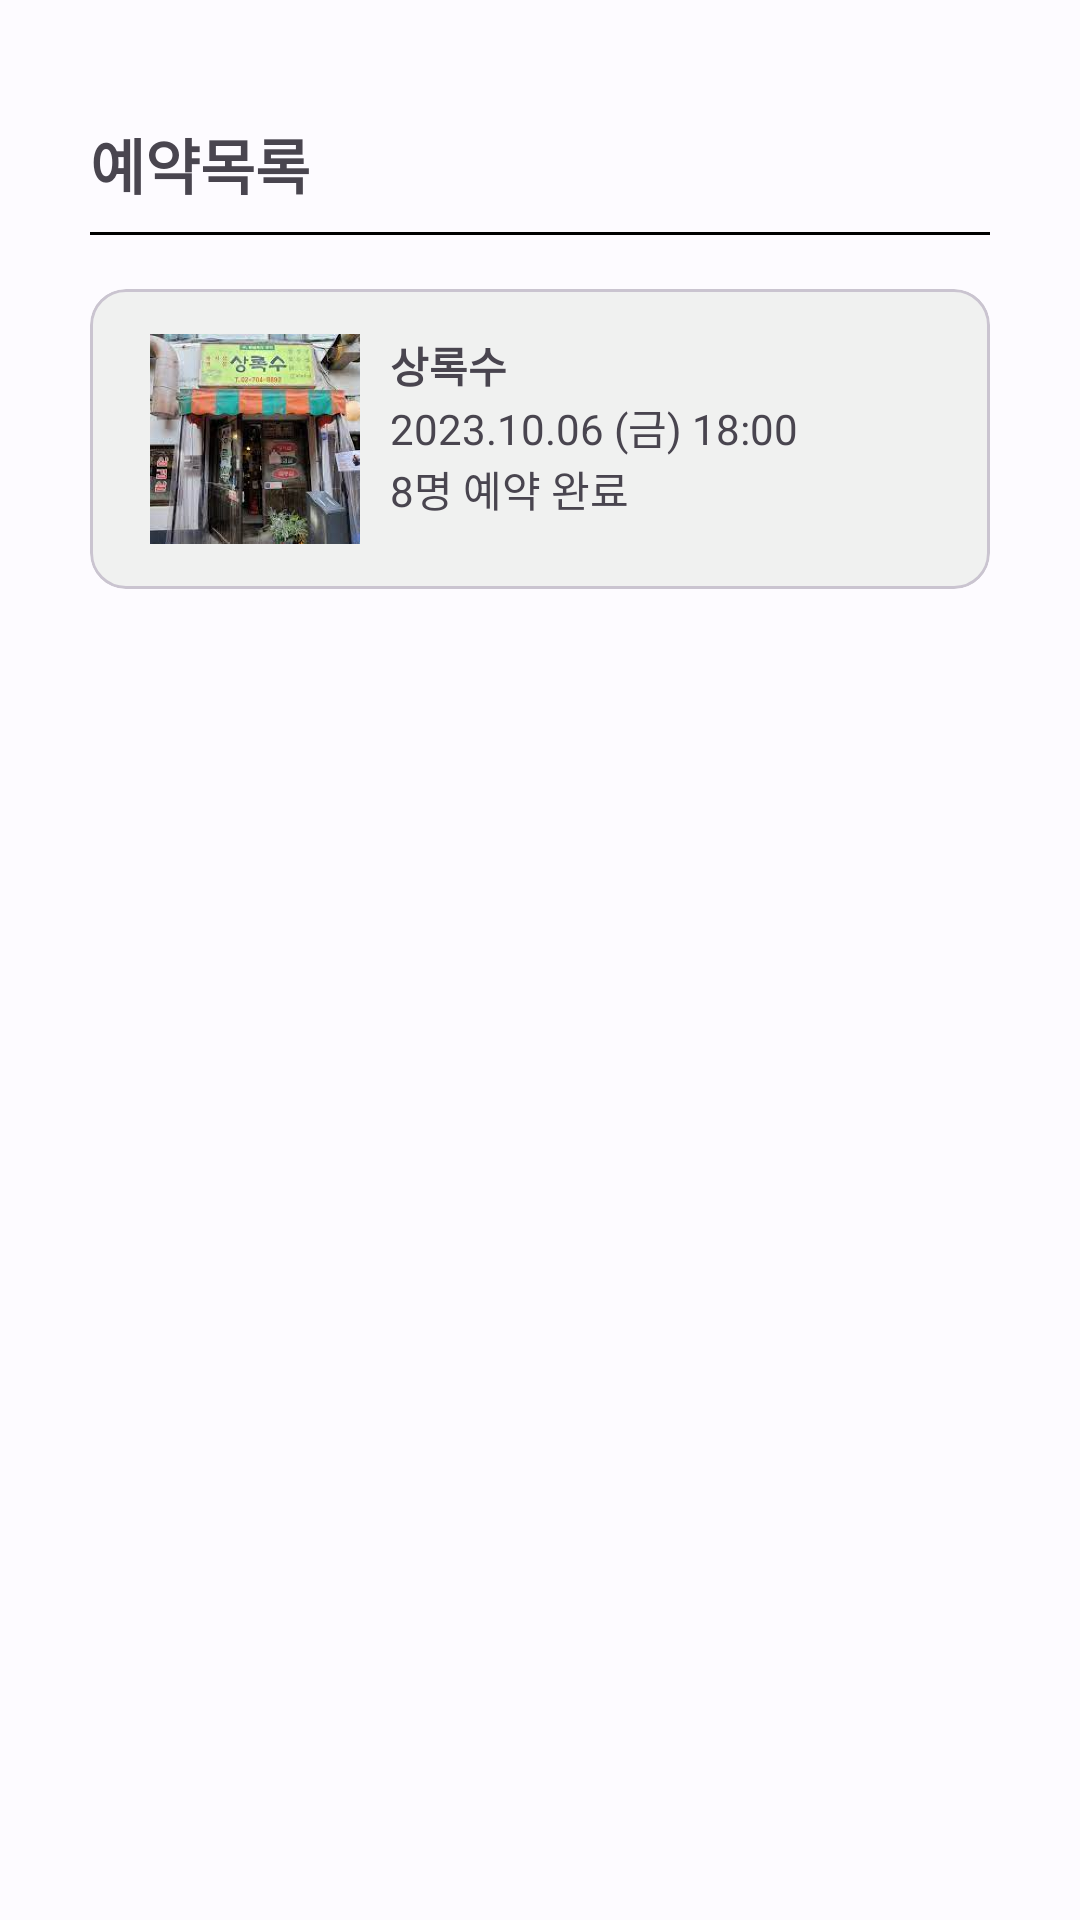

Screen size 1080px x 1920px. Icon name, then its center in pixels as (x=x, y=y):
restauraunt: (x=255, y=439)
